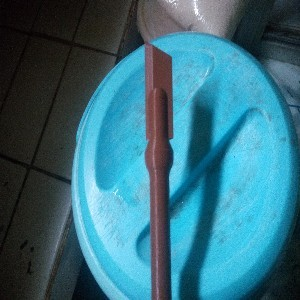cutter: (143, 39, 174, 300)
